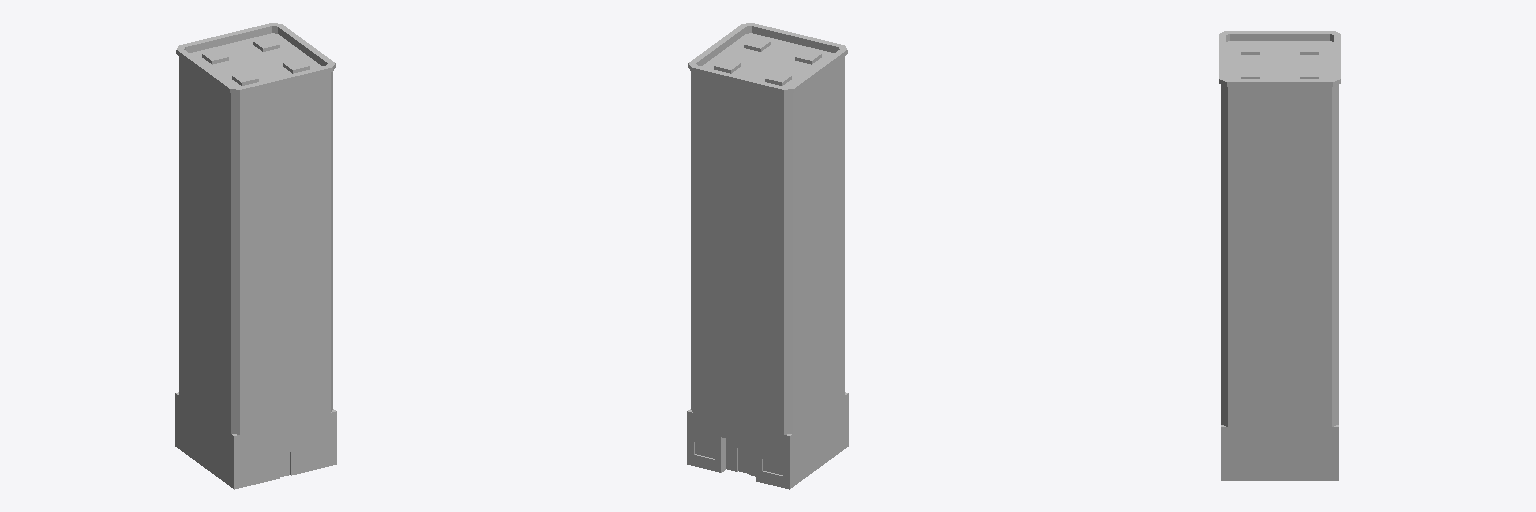
Rendered from skyscraper_b.obj.
The picture shows the model from 3 angles: view 1: azimuth 30°, elevation 25°; view 2: azimuth 150°, elevation 25°; view 3: azimuth 270°, elevation 25°; orthographic projection.
Parts seen in each view (by area): view 1: skyscraperB; view 2: skyscraperB; view 3: skyscraperB.
Part boxes in pixels (left/top/right/bottom): skyscraperB: left=175, top=23, right=336, bottom=489; skyscraperB: left=687, top=23, right=848, bottom=489; skyscraperB: left=1219, top=31, right=1340, bottom=480.
Bounding box in the file's own units: 2.48 × 8.96 × 2.48.